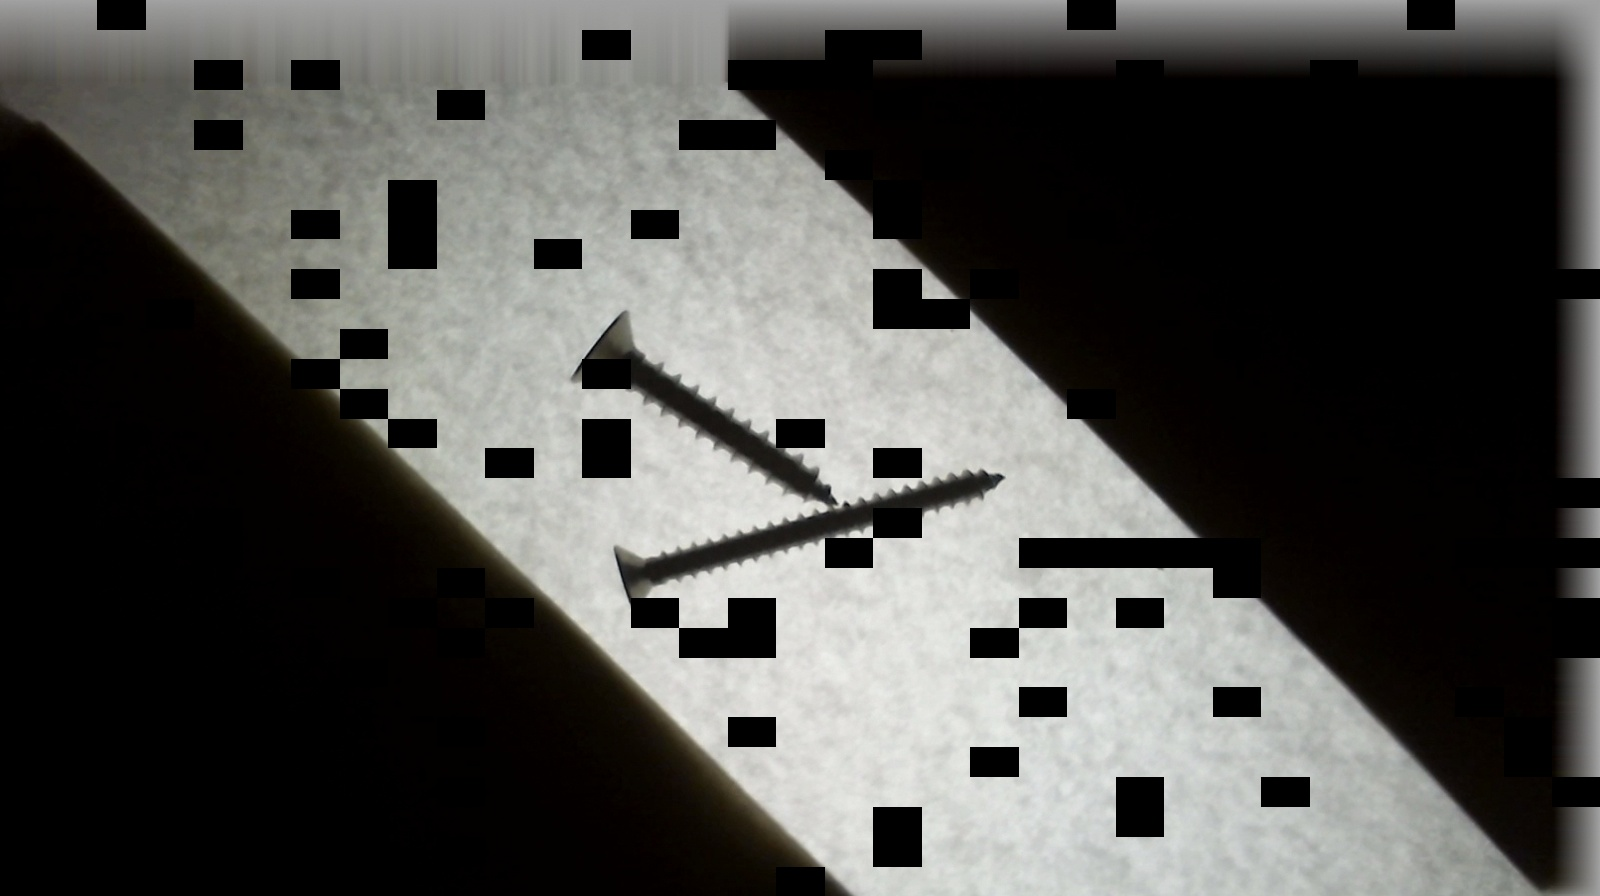S001: (567, 309, 837, 505)
S002: (614, 468, 1001, 613)
